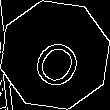O_NE: (23, 22, 87, 88)
